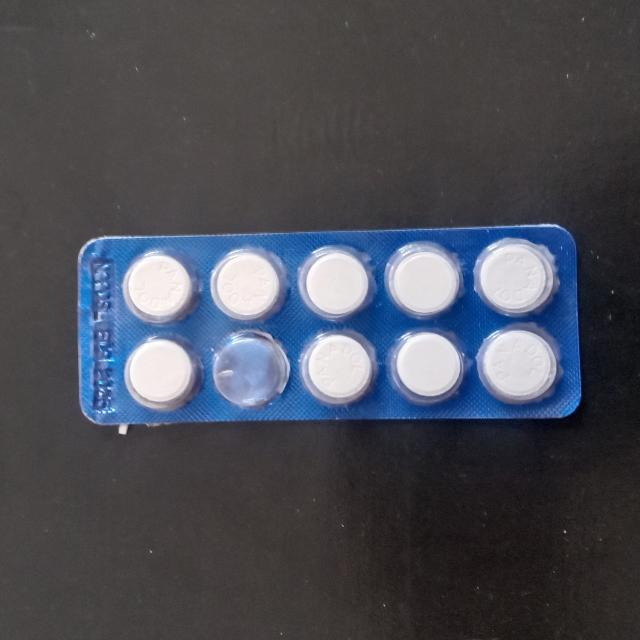defect: (207, 328, 293, 416)
